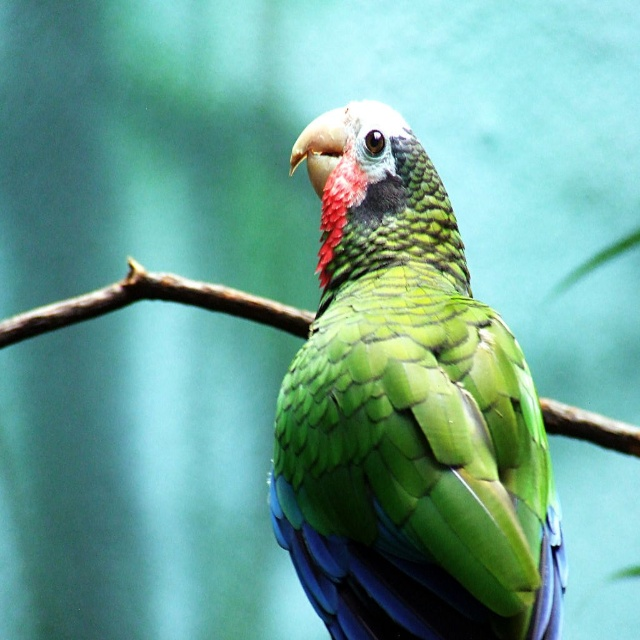Parrot: (266, 100, 569, 640)
